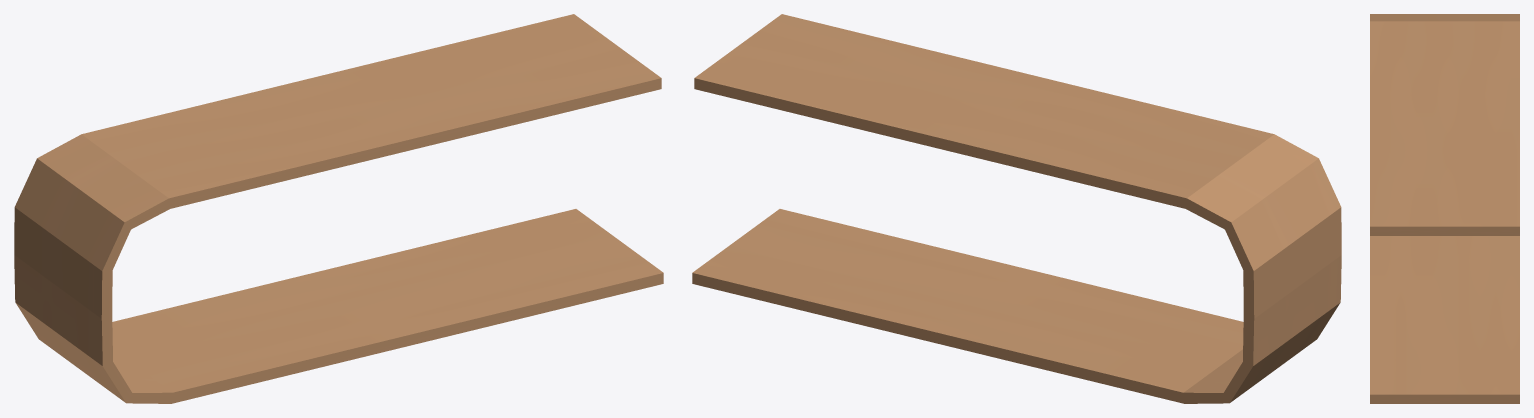
The model's file is Table_05_03.fbx.
3 renders of one model, left to right at view 1: azimuth 30°, elevation 25°; view 2: azimuth 150°, elevation 25°; view 3: azimuth 270°, elevation 25°, orthographic. The views are drawn at different scales.
Parts seen in each view (by area): view 1: Table_05_03; view 2: Table_05_03; view 3: Table_05_03.
Part boxes in pixels (box(x1,y1,x2,y2)): Table_05_03: box(14, 14, 663, 403); Table_05_03: box(692, 14, 1341, 403); Table_05_03: box(1370, 14, 1519, 403).
Size of the model in its own units: 2.29 by 0.8035 by 0.6187.
